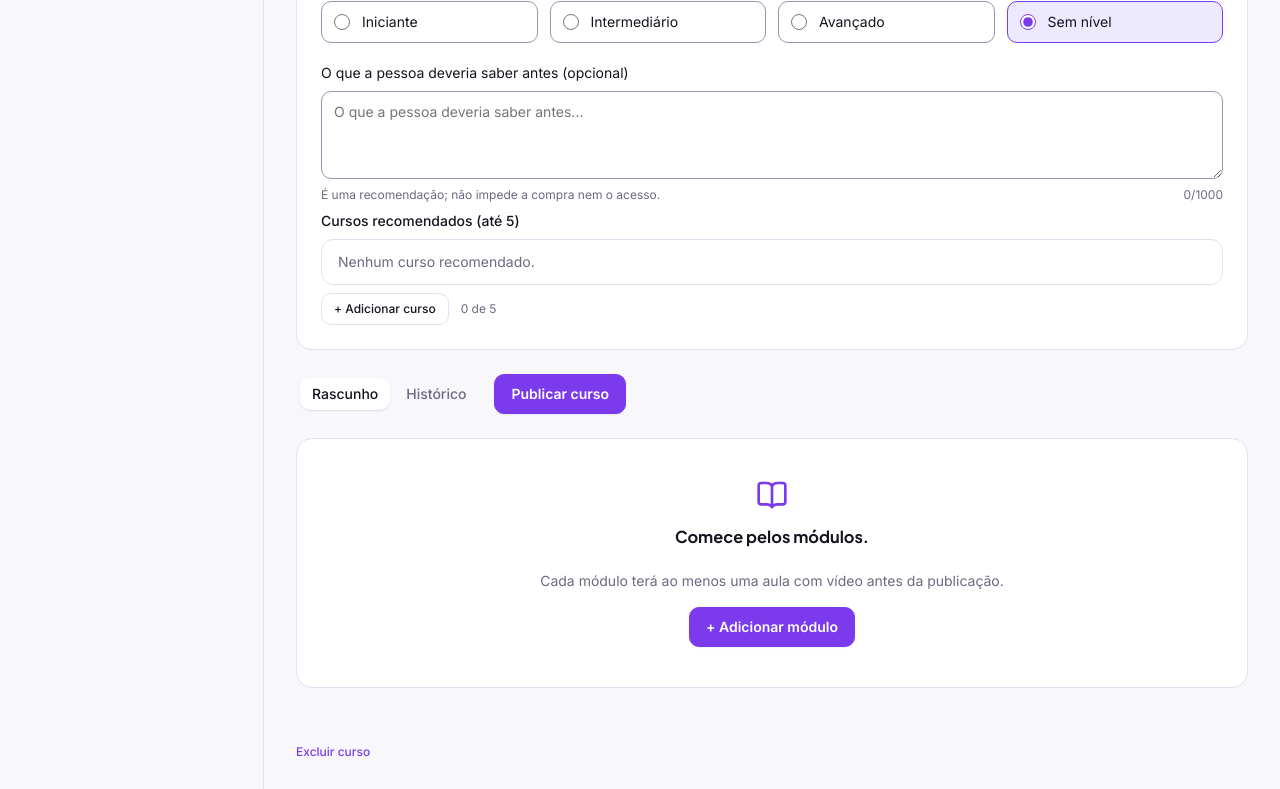
authoring deletion › cancel preserves the draft and sends no deletion
This screenshot has width=1280, height=789.
(page scrolled)
Click the button "Excluir curso": click(333, 752) [296,736,370,768]
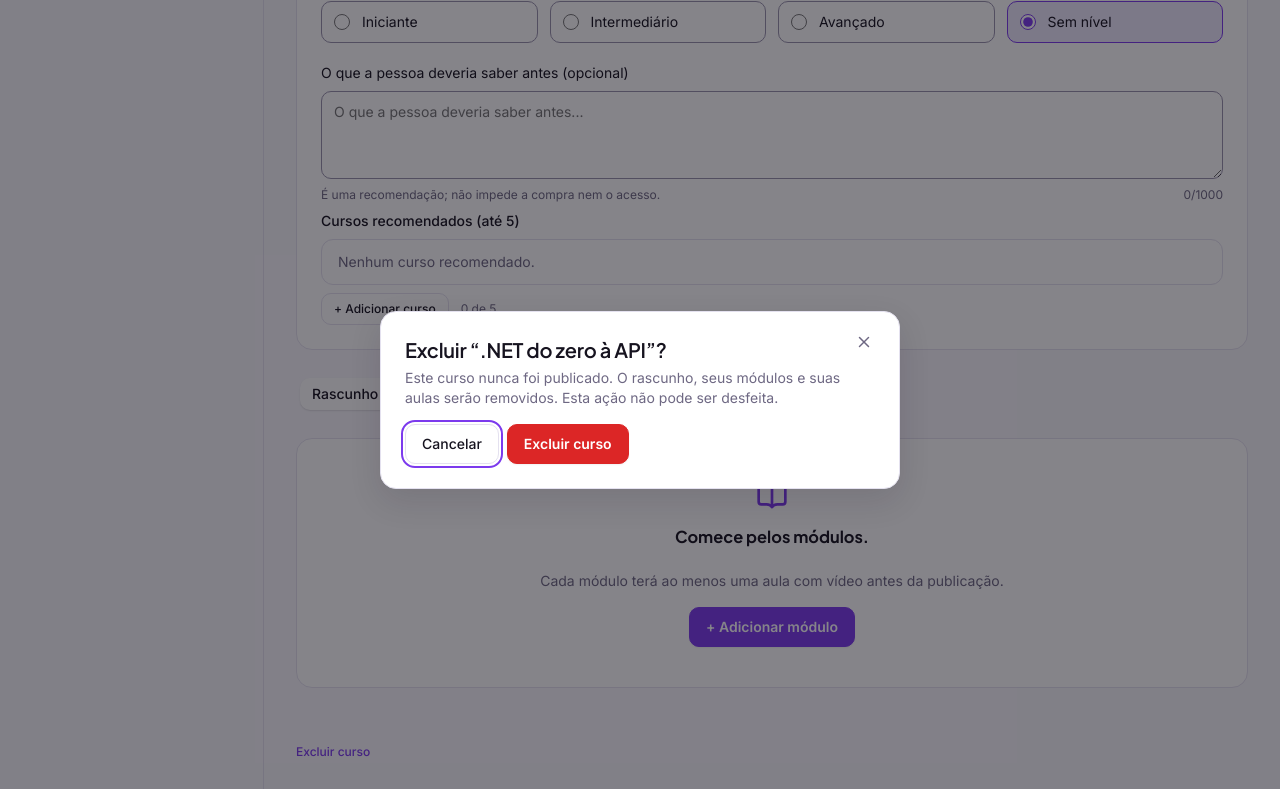
Result: the dialog shows "Esta ação não pode ser desfeita." at [405,369,840,406]
Click the button "Cancelar": click(452, 444) [405,424,499,464]
(page scrolled)
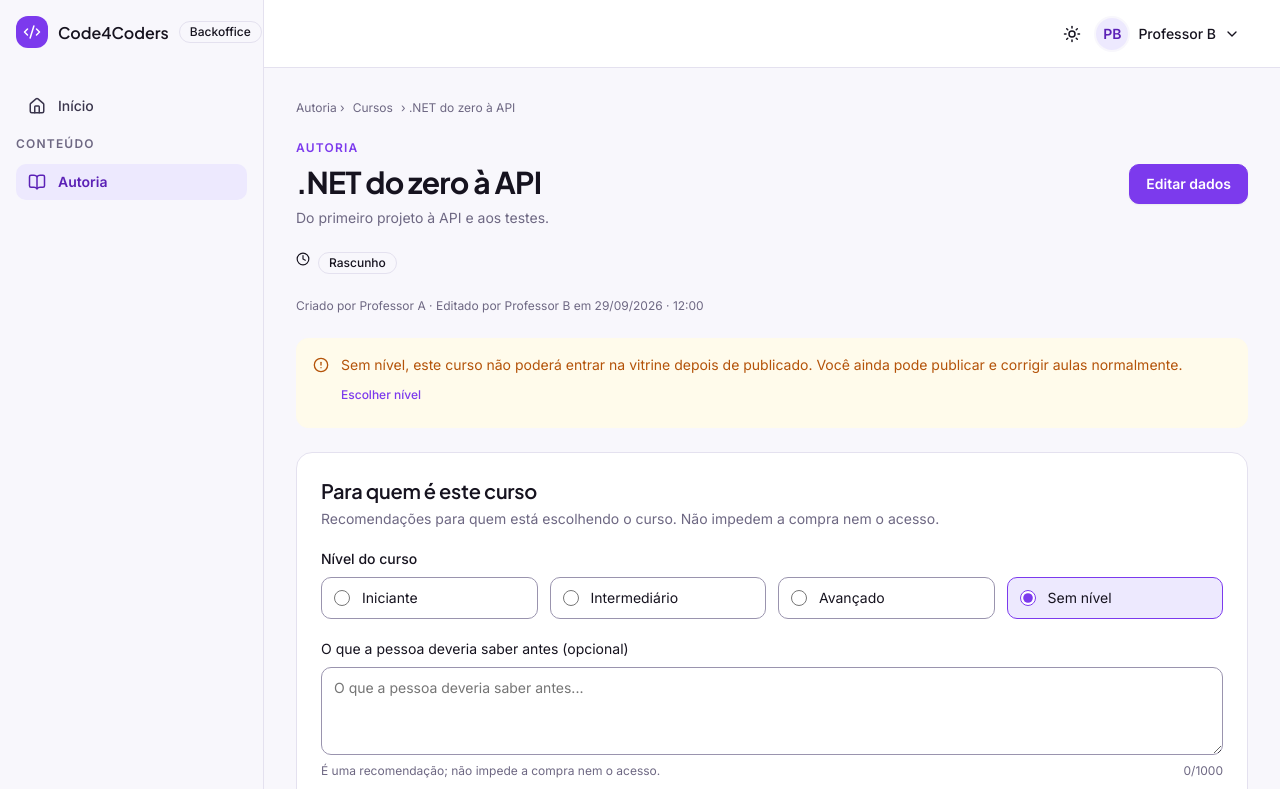
Expected: the heading ".NET do zero à API" is shown, [296,163,541,201]
Result: the dialog is gone
